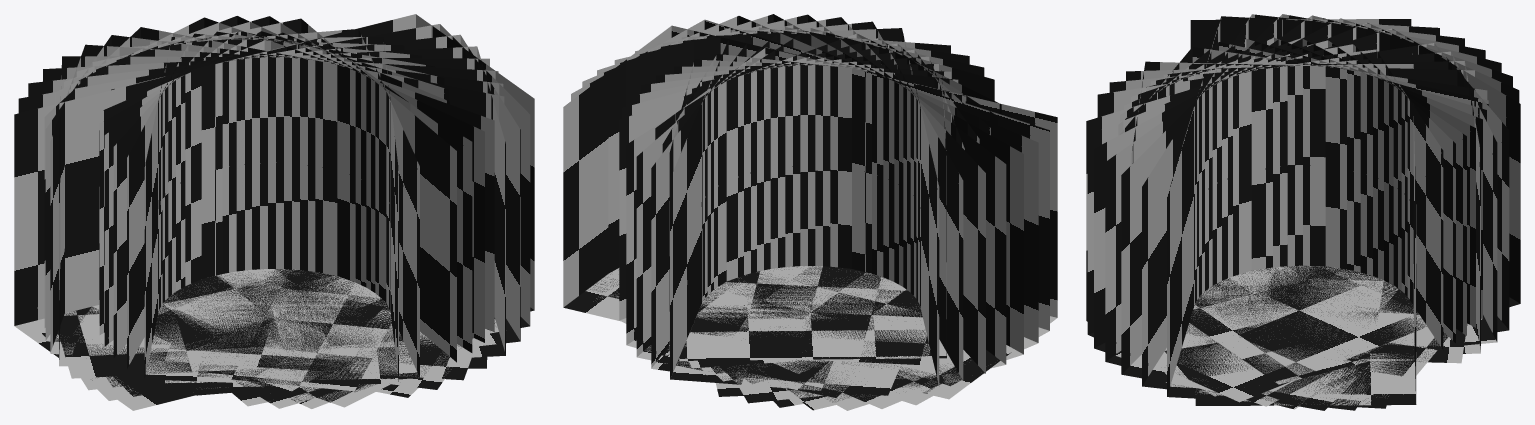
Rendered from box_rotate_expected.glb.
3 views of the same model, side by side, from view 1: azimuth 30°, elevation 25°; view 2: azimuth 150°, elevation 25°; view 3: azimuth 270°, elevation 25° (orthographic). The views are drawn at different scales.
Parts seen in each view (by area): view 1: box_rotate (×21); view 2: box_rotate (×21); view 3: box_rotate (×21).
Boxes of the visible parts, x1,y1,x2,y2 form: box_rotate (×21): [14, 14, 534, 410]; box_rotate (×21): [563, 14, 1057, 410]; box_rotate (×21): [1086, 14, 1520, 410].
Bounding box in the file's own units: 2.12 × 1 × 1.97.
1 material, 1 textured.
